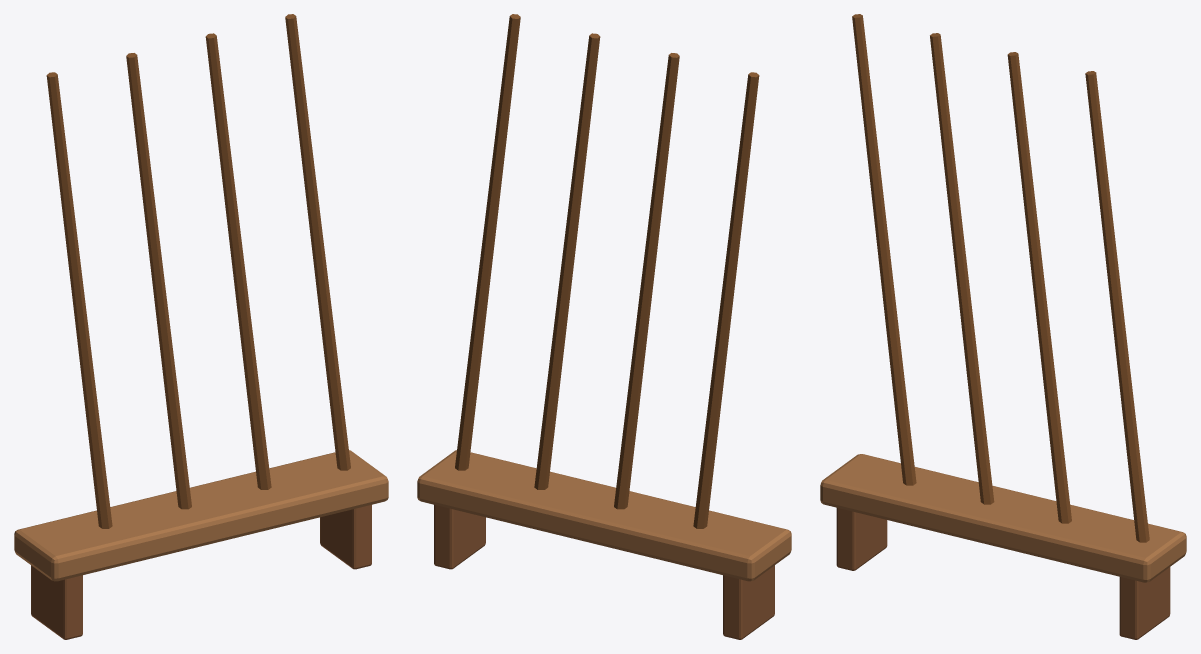
File: gia-can.glb
3 renders of one model, left to right at view 1: azimuth 30°, elevation 25°; view 2: azimuth 150°, elevation 25°; view 3: azimuth 330°, elevation 25°, orthographic. The views are drawn at different scales.
Visible parts, largest first — view 1: gia-can-0, gia-can-3, gia-can-5, gia-can-6, gia-can-4, gia-can-1, gia-can-2; view 2: gia-can-0, gia-can-3, gia-can-5, gia-can-6, gia-can-4, gia-can-1, gia-can-2; view 3: gia-can-0, gia-can-3, gia-can-5, gia-can-6, gia-can-4, gia-can-2, gia-can-1.
Boxes of the visible parts, x1,y1,x2,y2 form: gia-can-0: (14,450,388,581); gia-can-3: (46,72,112,528); gia-can-5: (205,33,271,489); gia-can-6: (285,14,350,470); gia-can-4: (126,53,191,509); gia-can-1: (31,565,82,639); gia-can-2: (320,504,371,569); gia-can-0: (417,450,791,581); gia-can-3: (693,72,759,528); gia-can-5: (534,33,600,489); gia-can-6: (455,14,520,470); gia-can-4: (614,53,679,509); gia-can-1: (723,565,774,639); gia-can-2: (434,504,485,569); gia-can-0: (820,454,1186,582); gia-can-3: (852,14,916,485); gia-can-5: (1007,52,1071,523); gia-can-6: (1085,71,1149,542); gia-can-4: (930,33,994,504); gia-can-2: (1119,567,1170,639); gia-can-1: (836,508,887,570).
Size of the model in its own units: 1.4 by 2.19 by 0.3.
